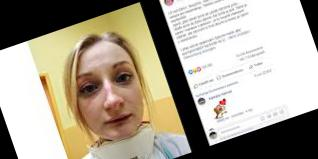mask_weared_incorrect: (76, 56, 160, 158)
